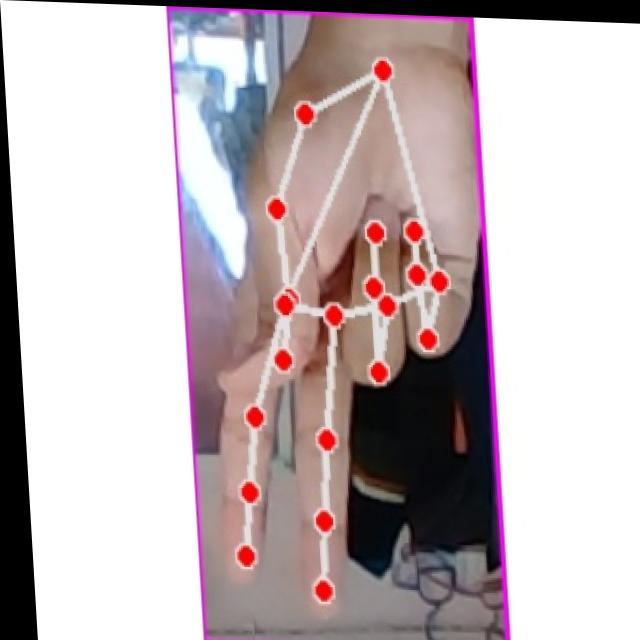K: (184, 37, 489, 634)
